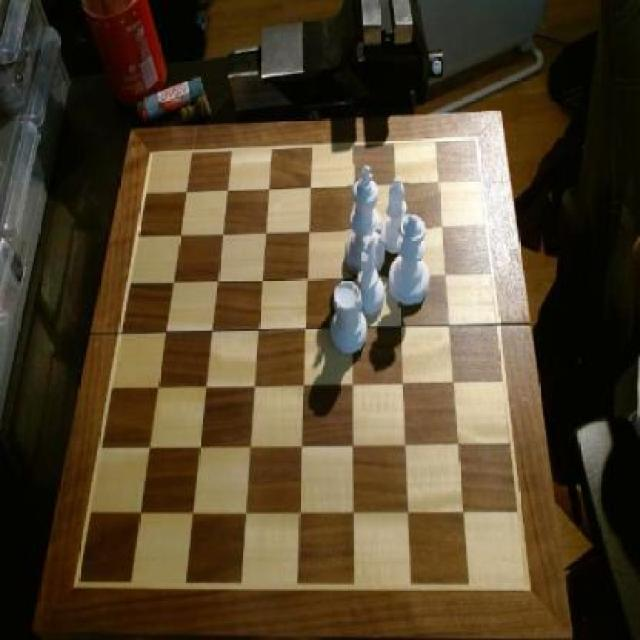black-rook: (382, 178, 412, 254)
white-bishop: (344, 164, 386, 274)
white-king: (356, 232, 386, 315)
white-pawn: (389, 214, 432, 311)
white-queen: (331, 280, 369, 355)
